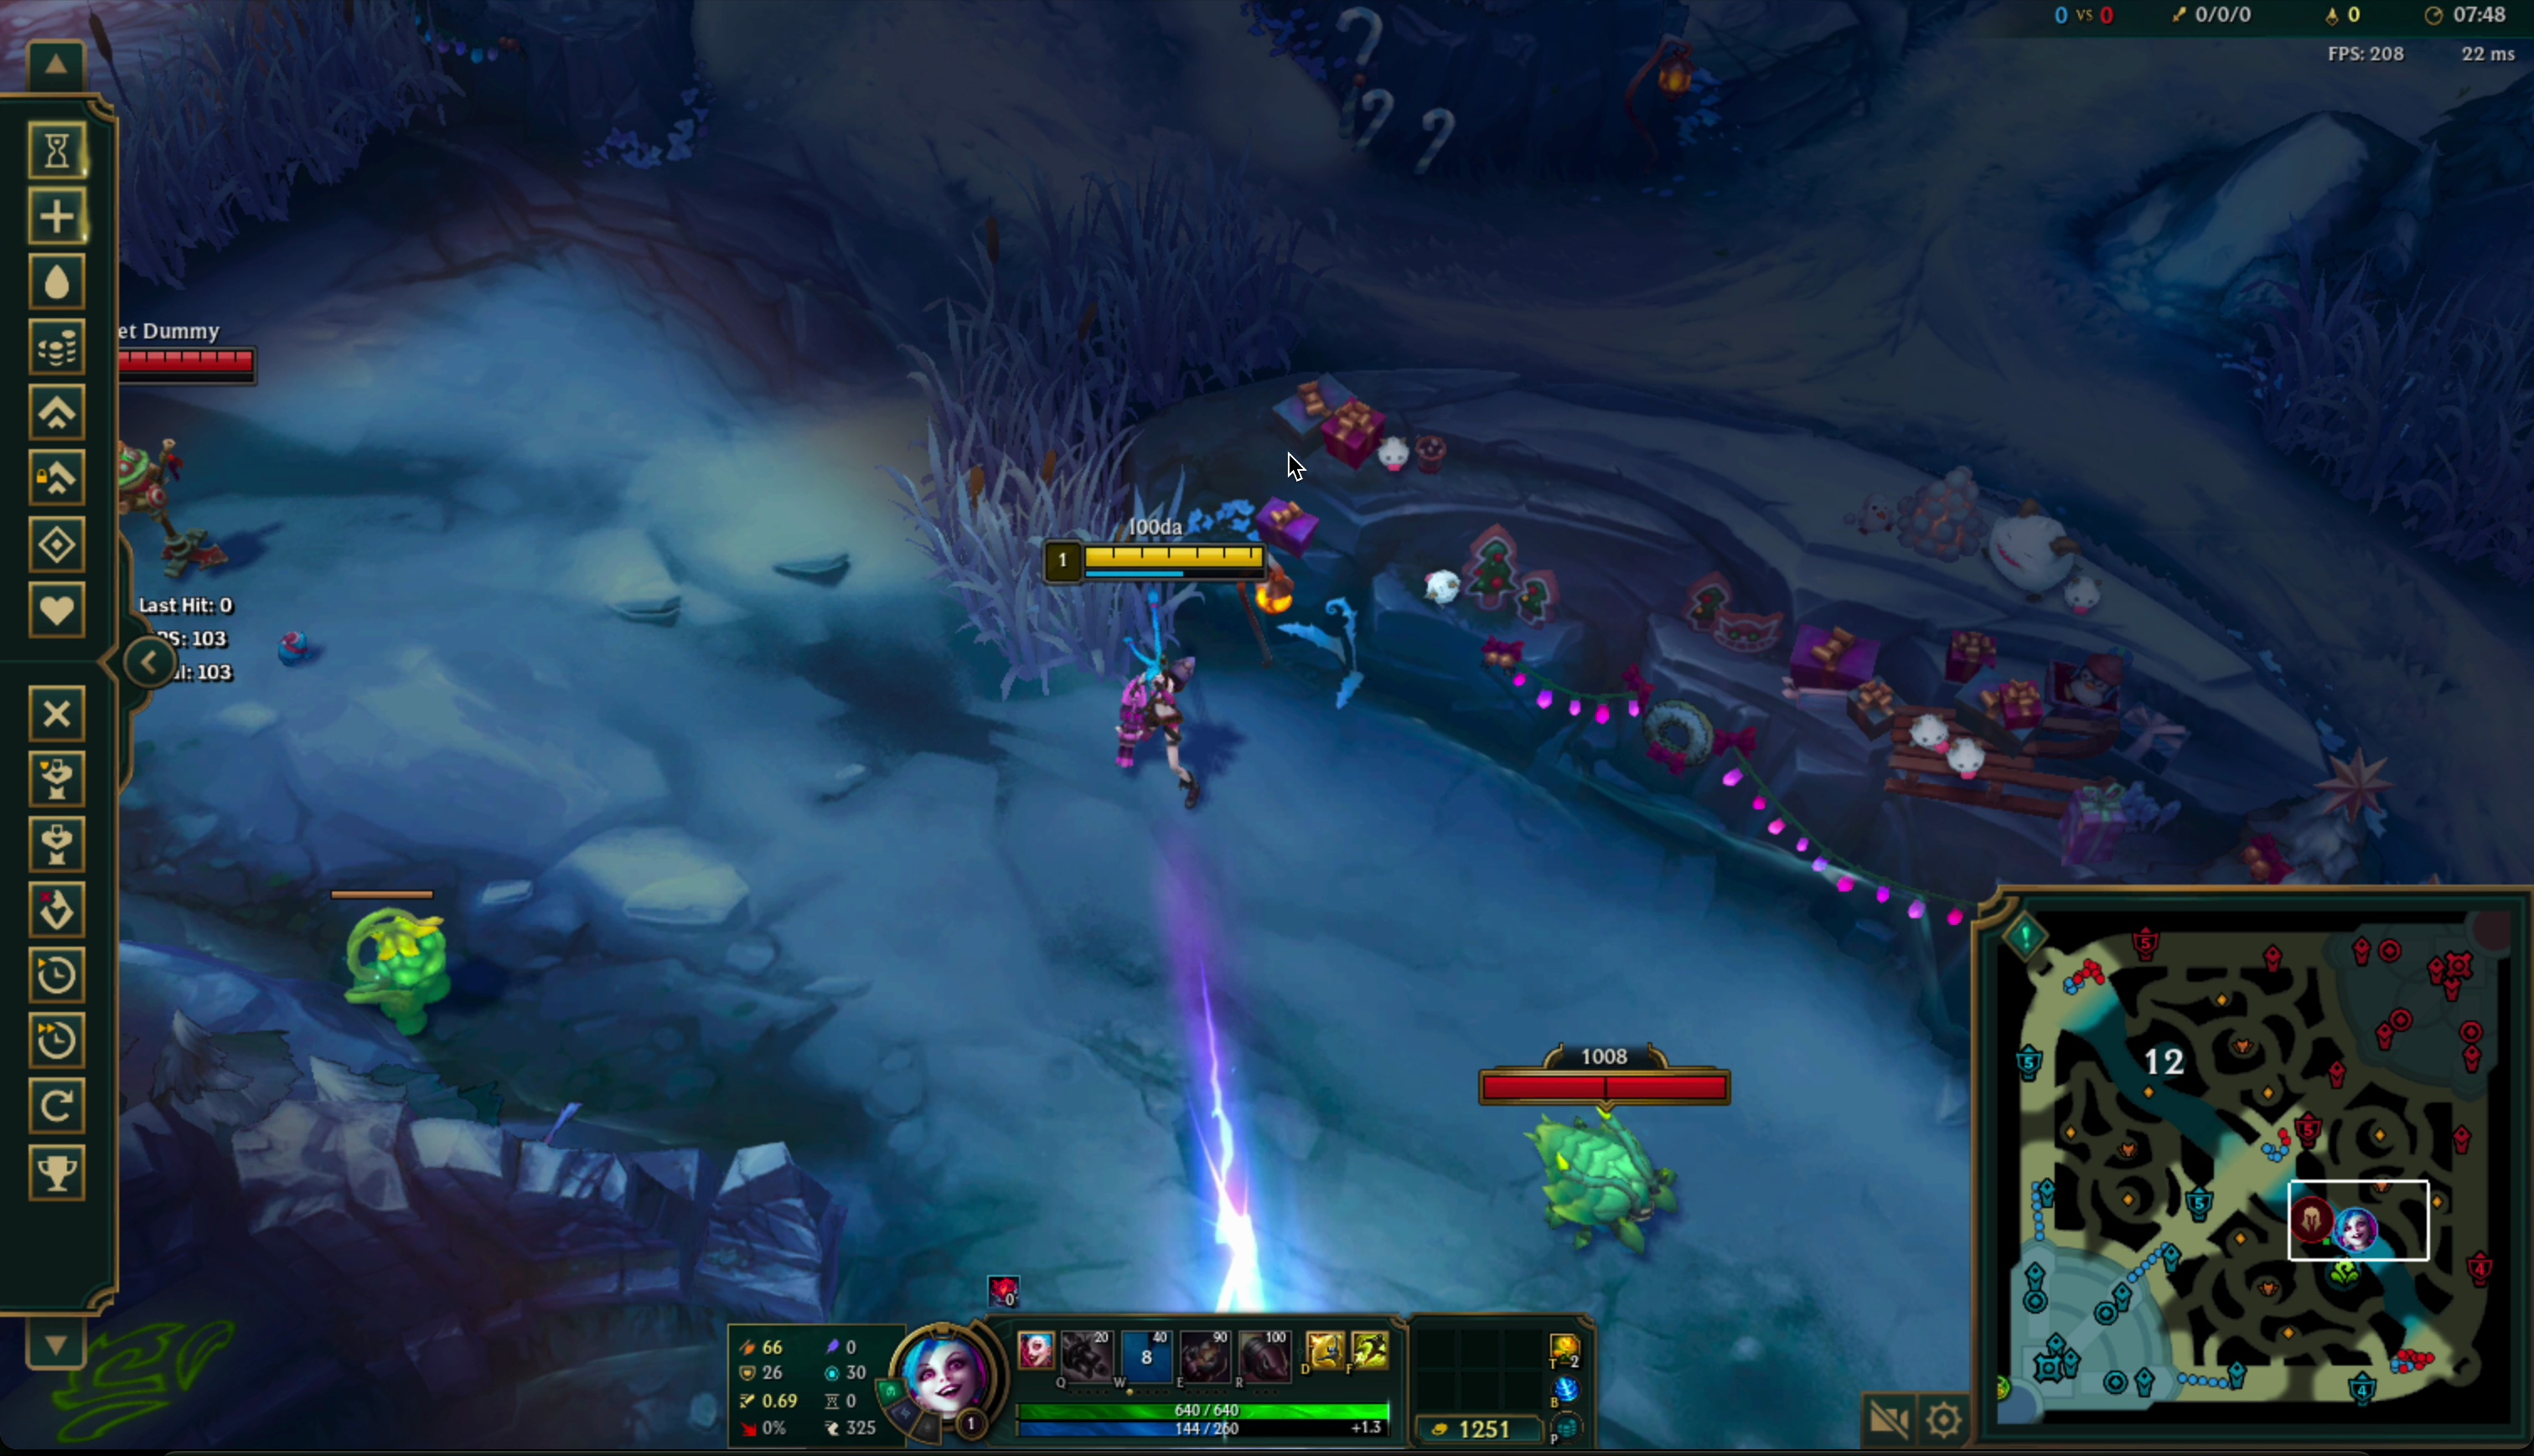JINX_W_PROJECTILE: (1030, 511, 1371, 1315)
